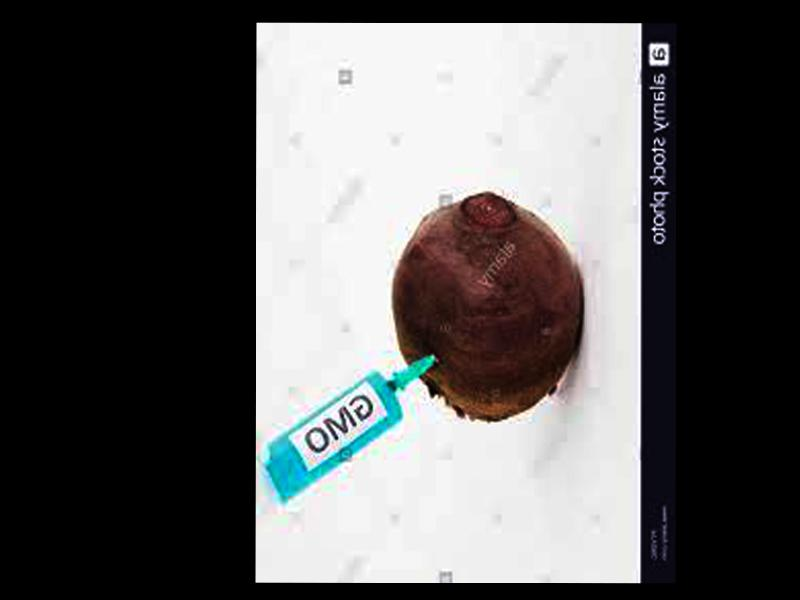Beet: (391, 193, 584, 417)
